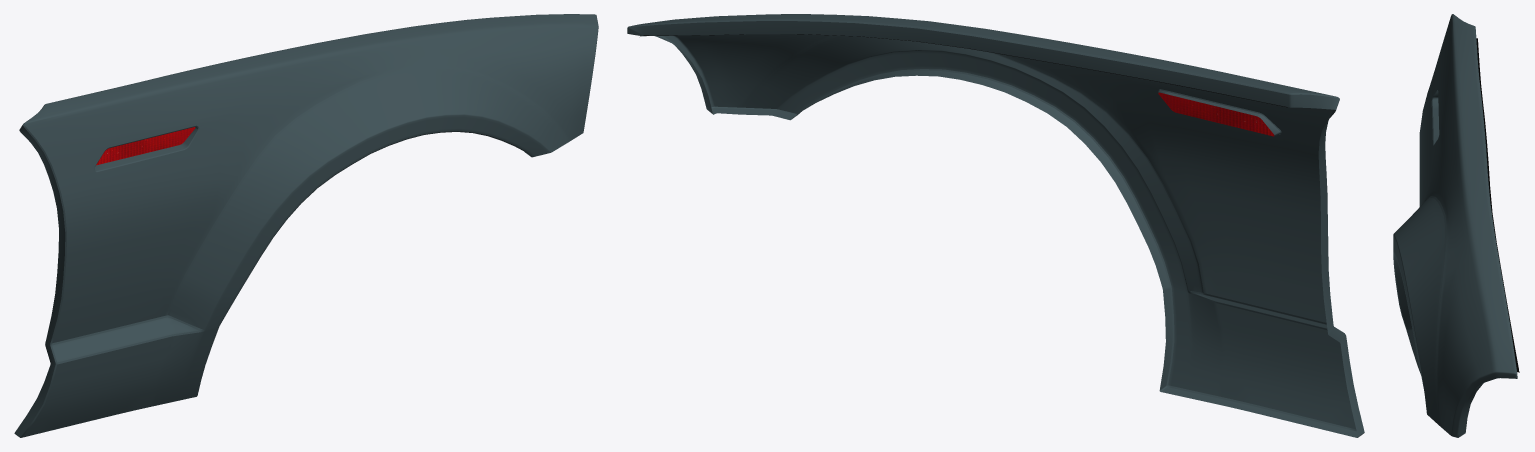
3 views of the same model, side by side, from view 1: azimuth 30°, elevation 25°; view 2: azimuth 150°, elevation 25°; view 3: azimuth 270°, elevation 25° (orthographic). The views are drawn at different scales.
Visible parts, largest first — view 1: P222_15_141B_R_P222_15_141B_R_1_DaS, P222_15_141B_R_P222_15_141B_R_1_DaS_E, P222_15_141B_R_P222_15_141B_R_3_D; view 2: P222_15_141B_R_P222_15_141B_R_1_DaS, P222_15_141B_R_P222_15_141B_R_1_DaS_E, P222_15_141B_R_P222_15_141B_R_3_D; view 3: P222_15_141B_R_P222_15_141B_R_1_DaS, P222_15_141B_R_P222_15_141B_R_1_DaS_E, P222_15_141B_R_2_D_P222_15_141B_R.
Boxes of the visible parts, left/top/right/bottom form: P222_15_141B_R_P222_15_141B_R_1_DaS: left=14, top=14, right=598, bottom=437; P222_15_141B_R_P222_15_141B_R_1_DaS_E: left=20, top=14, right=594, bottom=437; P222_15_141B_R_P222_15_141B_R_3_D: left=96, top=127, right=195, bottom=165; P222_15_141B_R_P222_15_141B_R_1_DaS: left=627, top=14, right=1364, bottom=437; P222_15_141B_R_P222_15_141B_R_1_DaS_E: left=628, top=19, right=1356, bottom=431; P222_15_141B_R_P222_15_141B_R_3_D: left=1158, top=92, right=1274, bottom=136; P222_15_141B_R_P222_15_141B_R_1_DaS: left=1393, top=14, right=1517, bottom=437; P222_15_141B_R_P222_15_141B_R_1_DaS_E: left=1393, top=14, right=1517, bottom=437; P222_15_141B_R_2_D_P222_15_141B_R: left=1476, top=38, right=1519, bottom=372.
Size of the model in its own units: 146 by 69.71 by 25.75.
